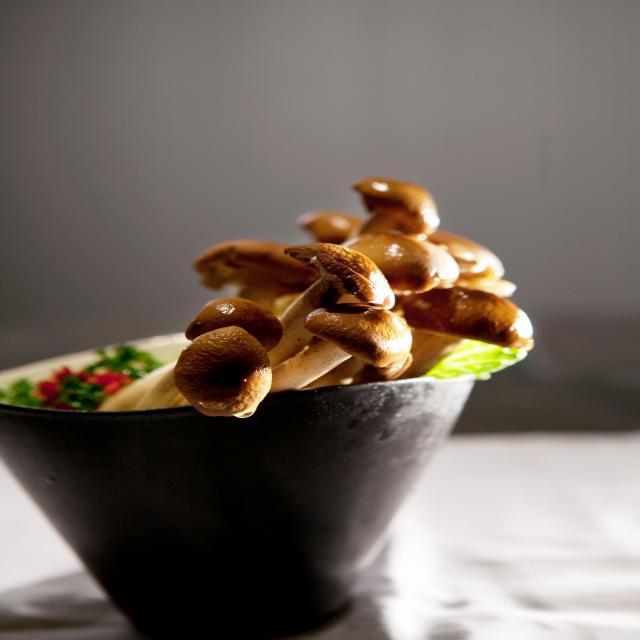Agrocybe aegerita: (128, 173, 554, 418)
